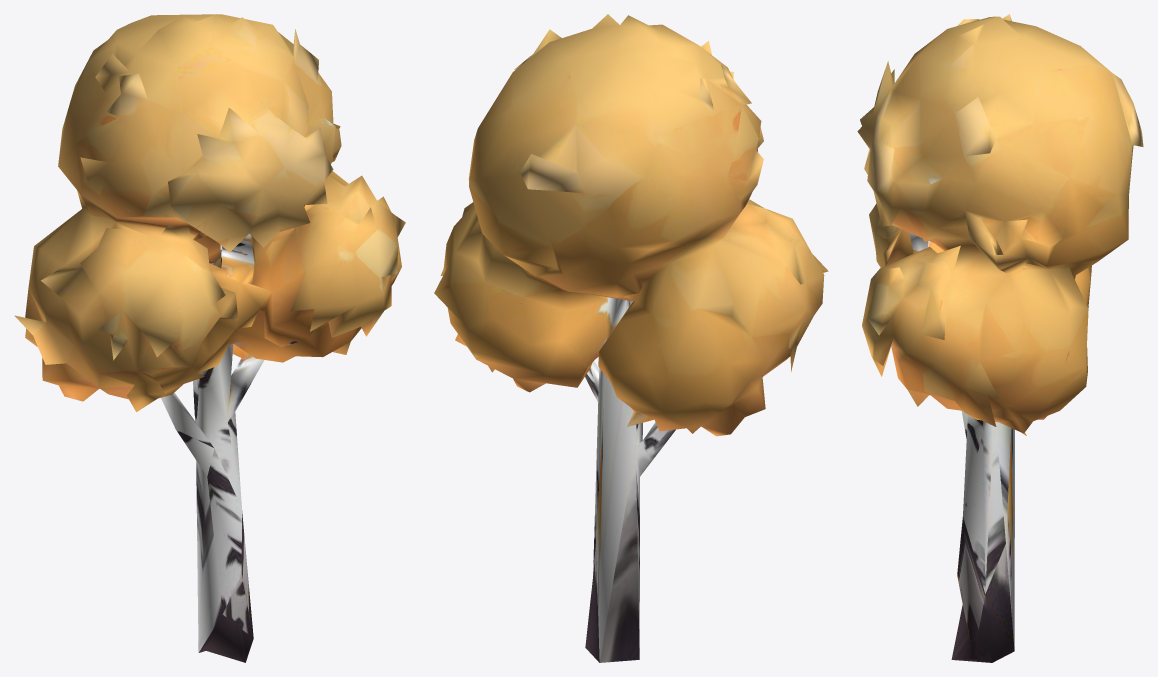
The model's file is birch_a_lo.glb.
3 views of the same model, side by side, from view 1: azimuth 30°, elevation 25°; view 2: azimuth 150°, elevation 25°; view 3: azimuth 270°, elevation 25° (orthographic). The views are drawn at different scales.
Visible parts, largest first — view 1: birch_a; view 2: birch_a; view 3: birch_a.
Part boxes in pixels (x1=…): birch_a: x1=14, y1=14, x2=405, y2=662; birch_a: x1=434, y1=14, x2=828, y2=662; birch_a: x1=857, y1=14, x2=1143, y2=662.
Bounding box in the file's own units: 4.08 × 6.99 × 2.9.
1 material, 1 textured.
